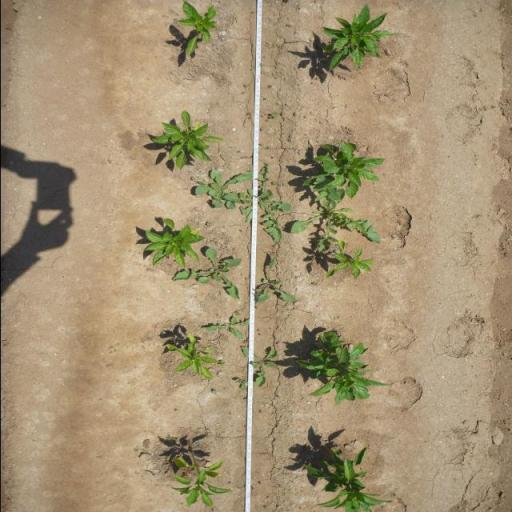plant: (292, 325, 394, 406), (299, 440, 393, 512), (319, 2, 397, 76), (304, 141, 387, 200), (148, 110, 227, 170), (172, 446, 235, 512), (137, 216, 208, 271), (163, 332, 219, 379), (176, 0, 218, 60), (324, 238, 374, 282)
weed: (287, 177, 382, 253), (220, 160, 294, 243), (169, 245, 242, 300), (191, 168, 252, 210), (254, 254, 297, 305), (237, 345, 279, 387), (201, 318, 255, 339), (233, 377, 247, 392), (164, 434, 178, 446), (164, 461, 174, 468), (268, 112, 278, 118), (233, 312, 241, 317), (220, 361, 226, 367), (242, 339, 248, 345), (205, 221, 211, 227), (211, 389, 216, 395), (271, 181, 277, 186), (245, 112, 250, 116), (311, 283, 317, 286), (242, 84, 248, 87)
